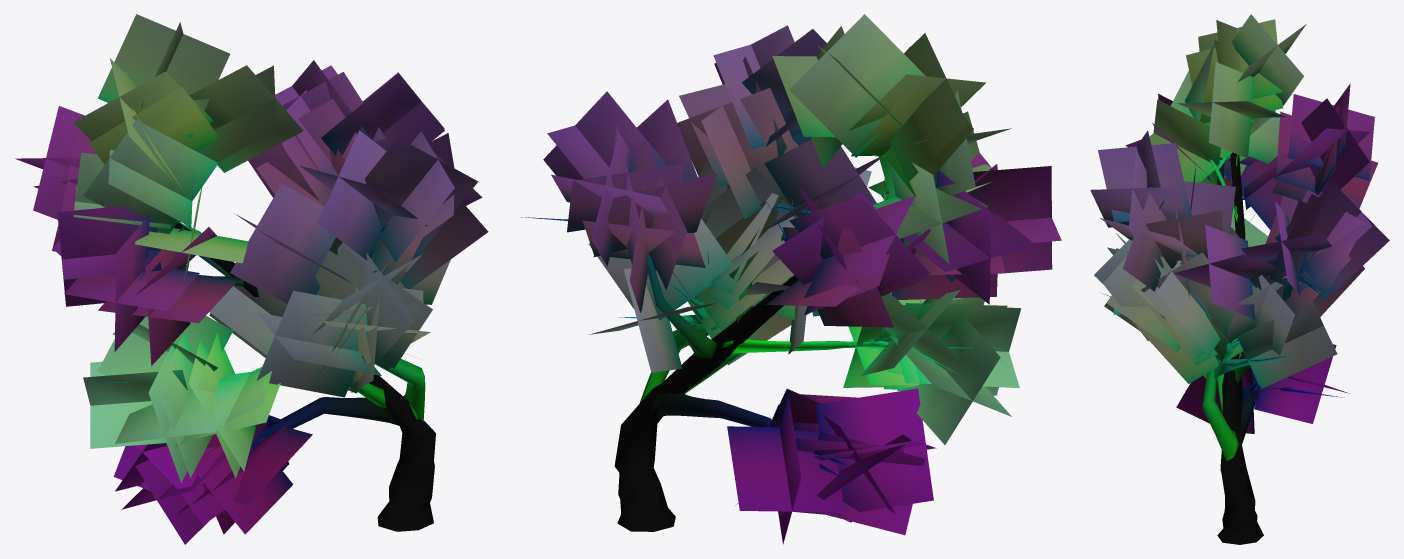
Rendered from URP_P5_Tree_13_LOD_2.fbx.
The picture shows the model from 3 angles, left to right: view 1: azimuth 30°, elevation 25°; view 2: azimuth 150°, elevation 25°; view 3: azimuth 270°, elevation 25°; orthographic projection. The views are drawn at different scales.
Parts seen in each view (by area): view 1: Tree_13_LOD_2; view 2: Tree_13_LOD_2; view 3: Tree_13_LOD_2.
Boxes of the visible parts, x1,y1,x2,y2 form: Tree_13_LOD_2: (15,14,488,544); Tree_13_LOD_2: (521,14,1061,544); Tree_13_LOD_2: (1090,14,1389,544).
Bounding box in the file's own units: 406 × 481 × 299.
